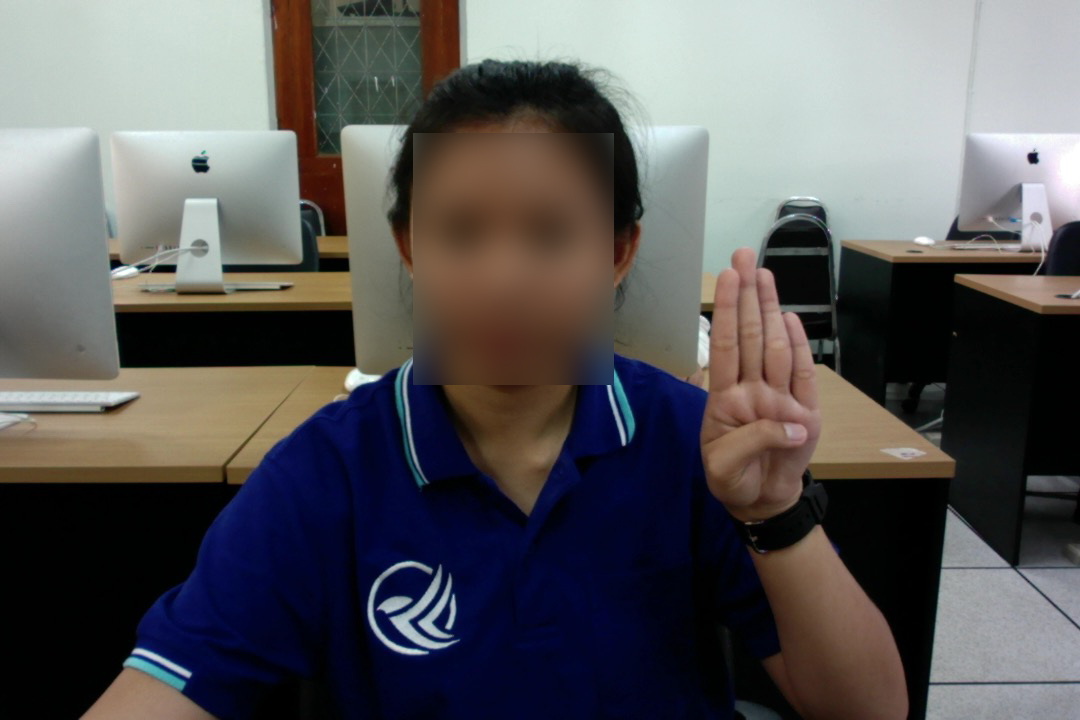bor: (694, 241, 827, 526)
